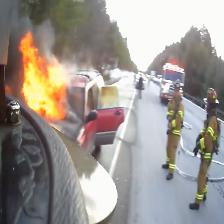fire: (10, 33, 69, 139)
nofire: (162, 51, 184, 77)
